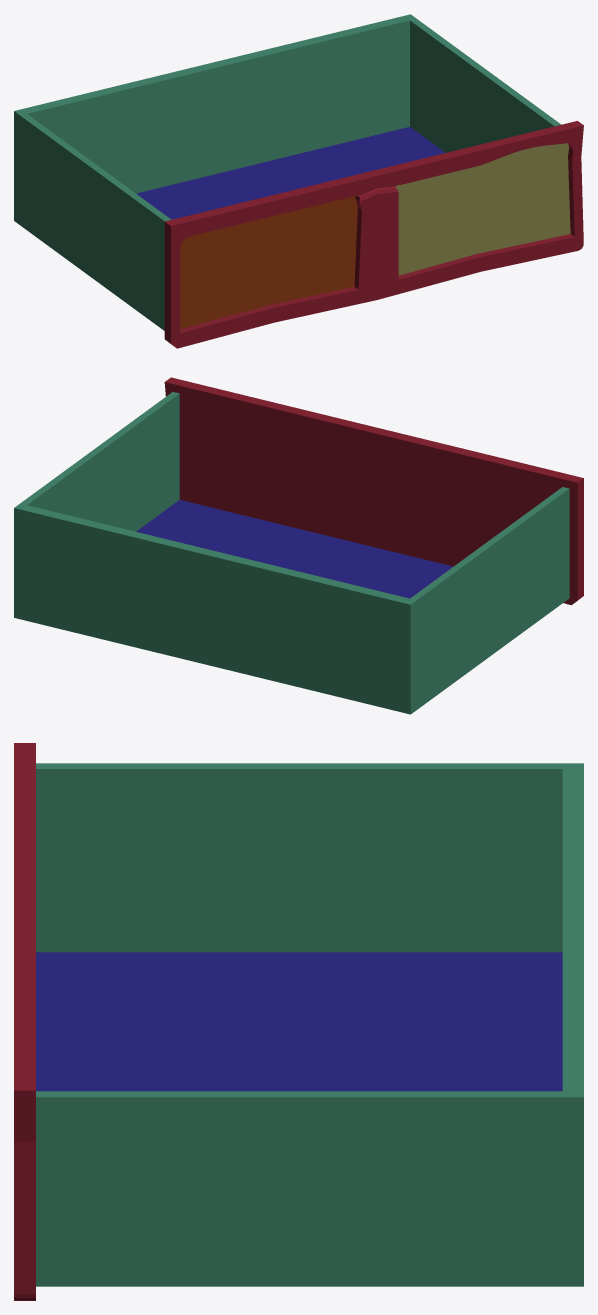
File: Table_Style_01_Drawer.fbx
3 renders of one model, top to bottom at view 1: azimuth 30°, elevation 25°; view 2: azimuth 150°, elevation 25°; view 3: azimuth 270°, elevation 25°, orthographic. The views are drawn at different scales.
Parts seen in each view (by area): view 1: SetA_Table_Style_01_Drawer; view 2: SetA_Table_Style_01_Drawer; view 3: SetA_Table_Style_01_Drawer.
Part boxes in pixels (x1,y1,x2,y2): SetA_Table_Style_01_Drawer: (14, 14, 583, 348); SetA_Table_Style_01_Drawer: (14, 377, 583, 714); SetA_Table_Style_01_Drawer: (14, 743, 583, 1300).
Size of the model in its own units: 0.6736 by 0.1936 by 0.4666.
